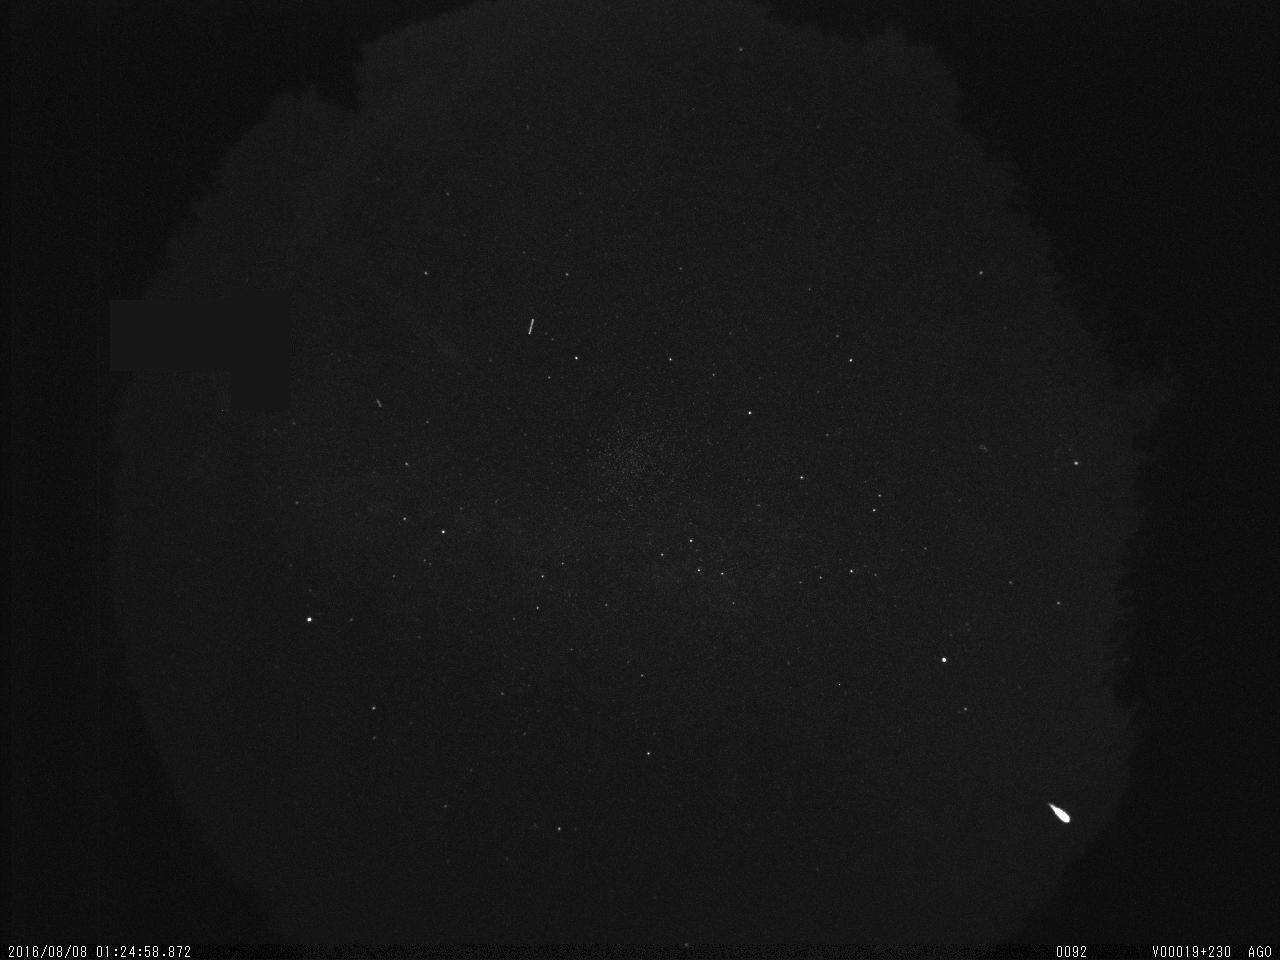meteor: (1045, 793, 1077, 831)
satelite: (522, 313, 537, 344)
